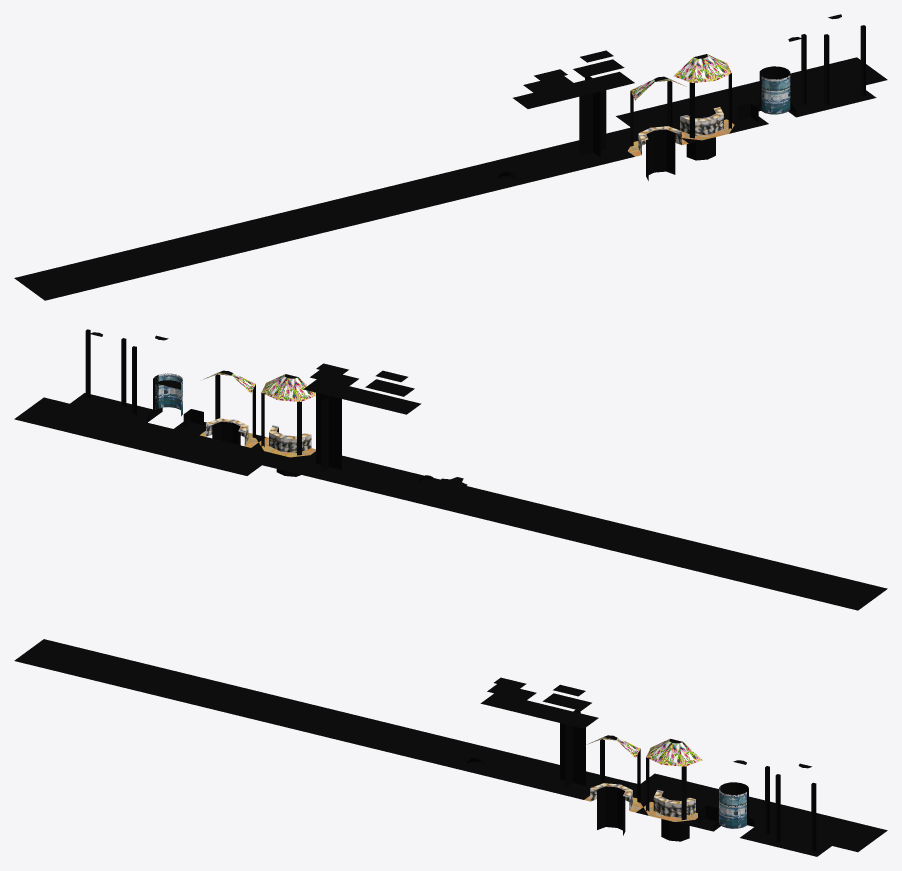
Rendered from catalog.obj.
3 views of the same model, one above another, from view 1: azimuth 30°, elevation 25°; view 2: azimuth 150°, elevation 25°; view 3: azimuth 330°, elevation 25° (orthographic). The views are drawn at different scales.
Parts seen in each view (by area): view 1: cell_10_0, cell_7_0, cell_4_0, cell_8_0, cell_6_0, cell_11_0, cell_13_0, cell_12_0, cell_9_0, cell_1_0, cell_2_0, cell_3_0 (+1 smaller); view 2: cell_10_0, cell_9_0, cell_4_0, cell_13_0, cell_12_0, cell_8_0, cell_11_0, cell_6_0, cell_7_0, cell_1_0, cell_2_0, cell_3_0; view 3: cell_10_0, cell_6_0, cell_4_0, cell_9_0, cell_7_0, cell_12_0, cell_11_0, cell_13_0, cell_8_0, cell_2_0, cell_1_0, cell_3_0 (+2 smaller).
Part boxes in pixels (x1,y1,x2,y2): cell_10_0: [579, 50, 634, 163]; cell_7_0: [673, 55, 715, 160]; cell_4_0: [754, 37, 796, 116]; cell_8_0: [651, 76, 688, 174]; cell_6_0: [700, 54, 741, 159]; cell_11_0: [566, 53, 607, 169]; cell_13_0: [513, 72, 554, 182]; cell_12_0: [539, 69, 581, 176]; cell_9_0: [620, 77, 661, 180]; cell_1_0: [834, 14, 876, 104]; cell_2_0: [808, 16, 849, 110]; cell_3_0: [788, 34, 822, 117]; cell_10_0: [303, 363, 343, 471]; cell_9_0: [277, 375, 315, 476]; cell_4_0: [147, 337, 182, 421]; cell_13_0: [381, 374, 421, 485]; cell_12_0: [355, 370, 395, 479]; cell_8_0: [251, 374, 291, 475]; cell_11_0: [329, 366, 369, 473]; cell_6_0: [200, 370, 235, 443]; cell_7_0: [225, 371, 265, 447]; cell_1_0: [70, 329, 110, 409]; cell_2_0: [96, 333, 131, 416]; cell_3_0: [122, 335, 161, 422]; cell_10_0: [558, 688, 598, 799]; cell_6_0: [662, 740, 702, 841]; cell_4_0: [713, 760, 754, 830]; cell_9_0: [584, 735, 620, 829]; cell_7_0: [636, 738, 676, 840]; cell_12_0: [506, 681, 546, 787]; cell_11_0: [532, 684, 572, 793]; cell_13_0: [480, 677, 520, 780]; cell_8_0: [610, 736, 650, 835]; cell_2_0: [766, 763, 805, 850]; cell_1_0: [791, 765, 831, 856]; cell_3_0: [740, 760, 775, 844].
Bounding box in the file's own units: 0.5 × 0.0703 × 0.0488.
Materials: 25 (25 with a texture image).
